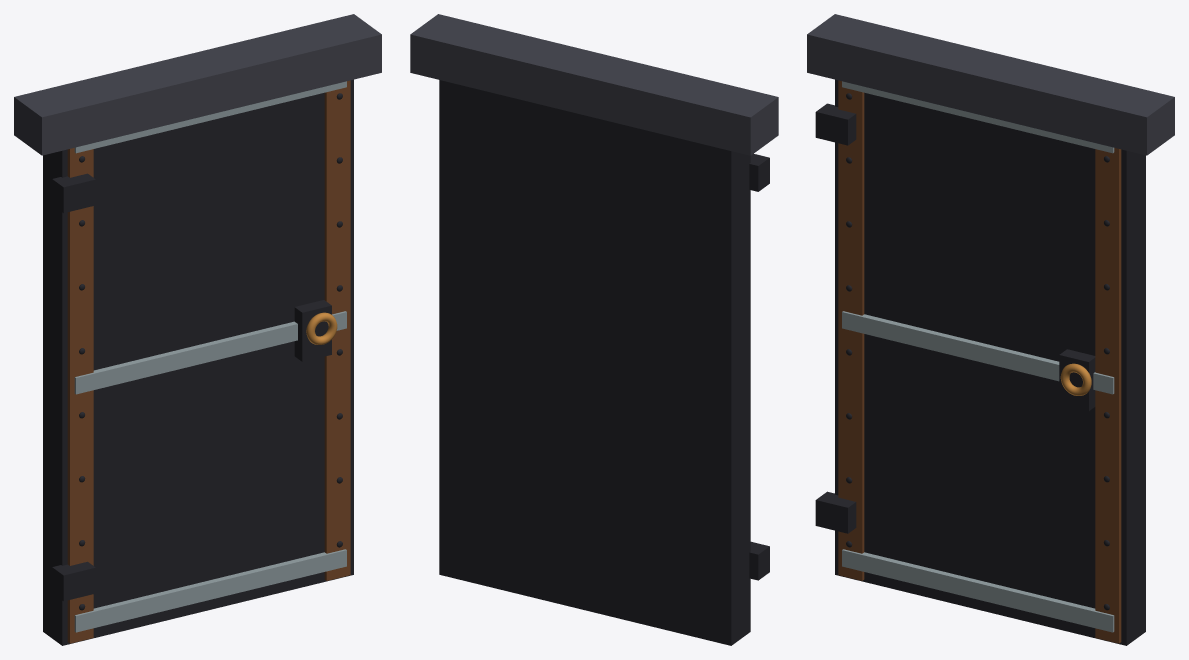
Rendered from mia-lh_door.glb.
3 renders of one model, left to right at view 1: azimuth 30°, elevation 25°; view 2: azimuth 150°, elevation 25°; view 3: azimuth 330°, elevation 25°, orthographic.
Parts seen in each view (by area): view 1: Body_iron, Body_stone, Body_rust, Body_steel, Body_brass; view 2: Body_iron, Body_stone; view 3: Body_iron, Body_stone, Body_rust, Body_steel, Body_brass.
Part boxes in pixels (box(x1,y1,x2,y2)): Body_iron: box(43, 79, 353, 645); Body_stone: box(14, 14, 381, 155); Body_rust: box(67, 80, 350, 643); Body_steel: box(74, 81, 346, 632); Body_brass: box(306, 312, 337, 344); Body_iron: box(439, 80, 769, 645); Body_stone: box(410, 14, 778, 155); Body_iron: box(815, 79, 1145, 645); Body_stone: box(807, 14, 1174, 155); Body_rust: box(838, 80, 1121, 643); Body_steel: box(842, 81, 1114, 632); Body_brass: box(1060, 363, 1091, 395).
Bounding box in the file's own units: 1.5 × 2.26 × 0.2702.
